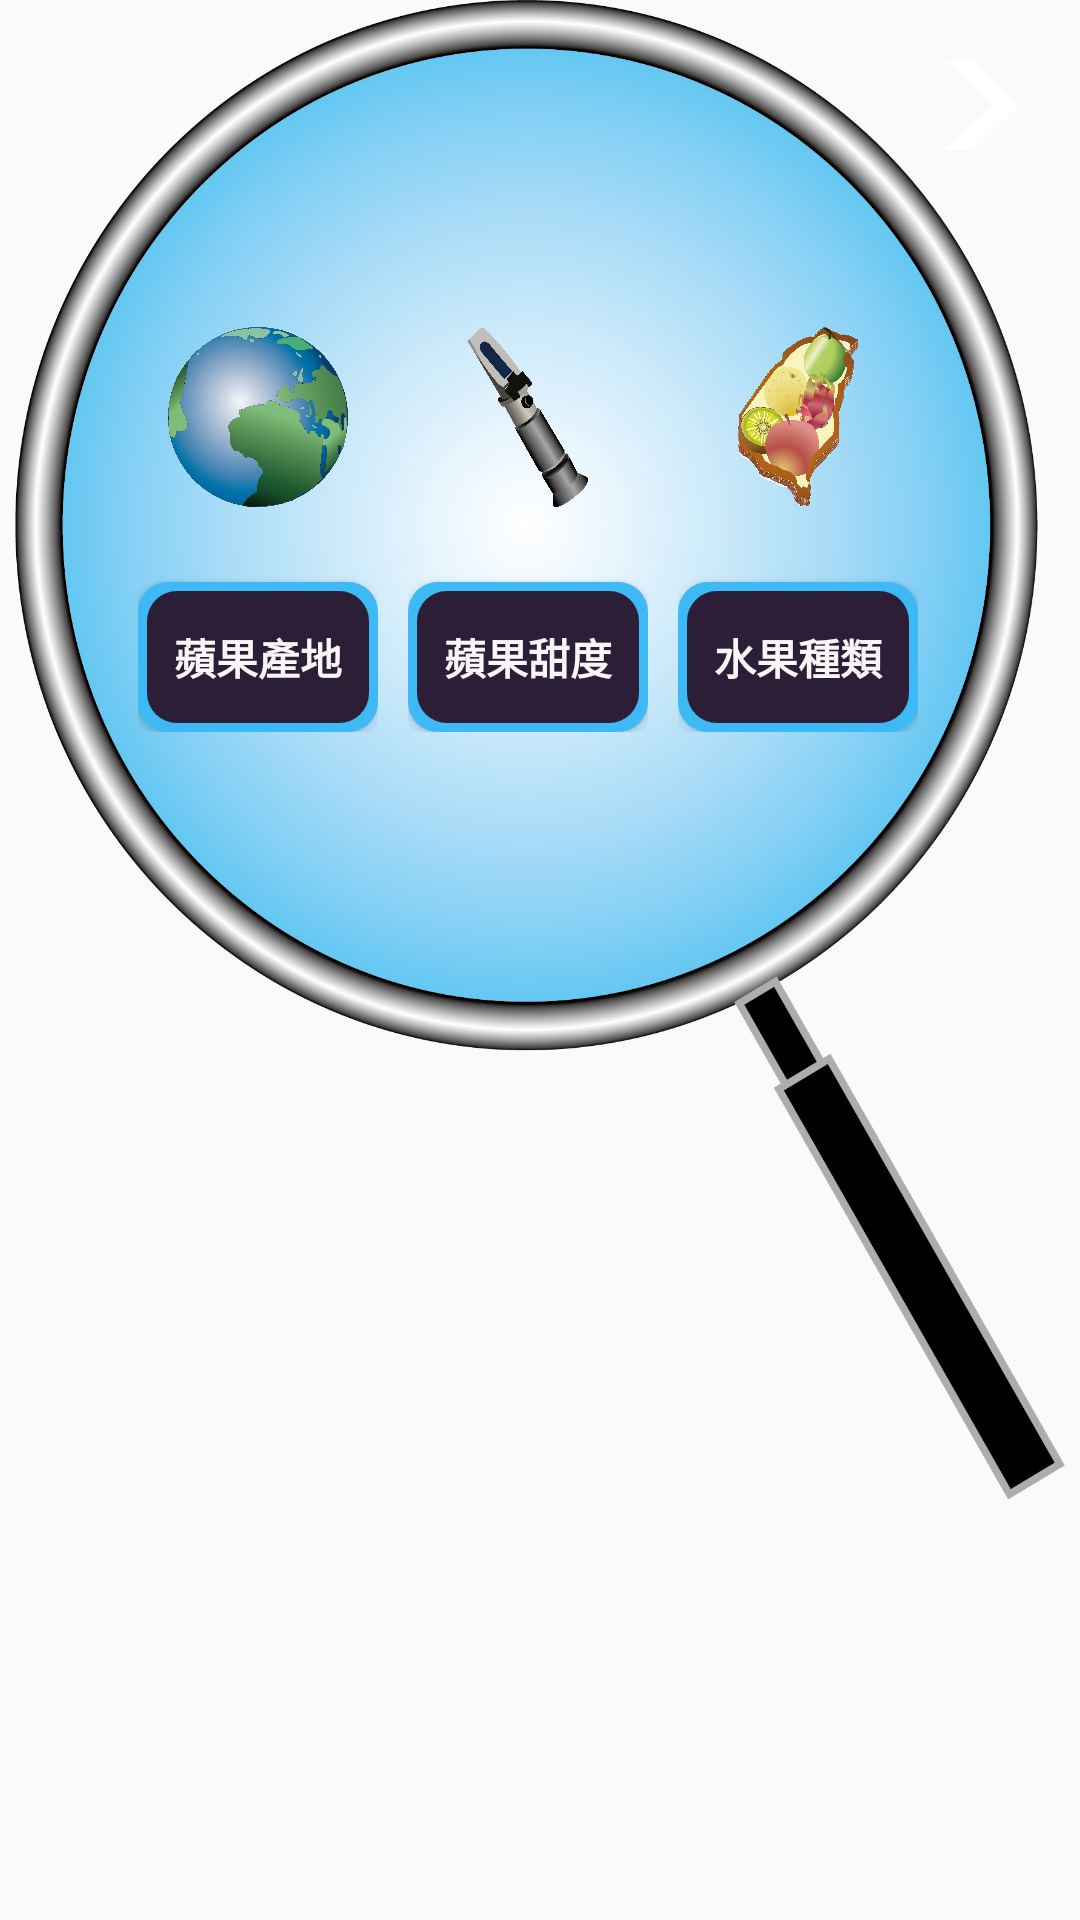

Icon click points for this 1080px x 1920px phone screenshot, format [x,y]:
place: [258,417]
sweet: [528,417]
